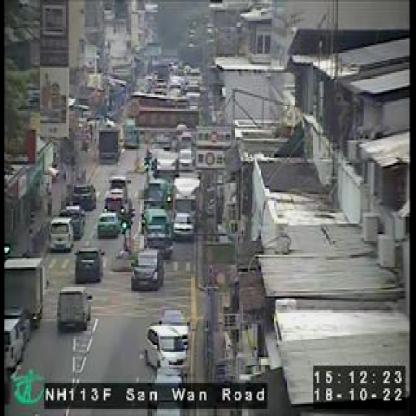Car: (146, 324, 188, 373), (58, 286, 92, 332), (131, 250, 164, 291), (76, 244, 104, 282), (58, 203, 85, 239), (49, 217, 75, 254), (96, 209, 120, 238), (71, 183, 96, 210), (107, 174, 130, 202), (172, 213, 195, 239)
Minibus: (142, 205, 173, 255)
Truck: (146, 150, 182, 201), (172, 178, 203, 214), (98, 124, 120, 166)
